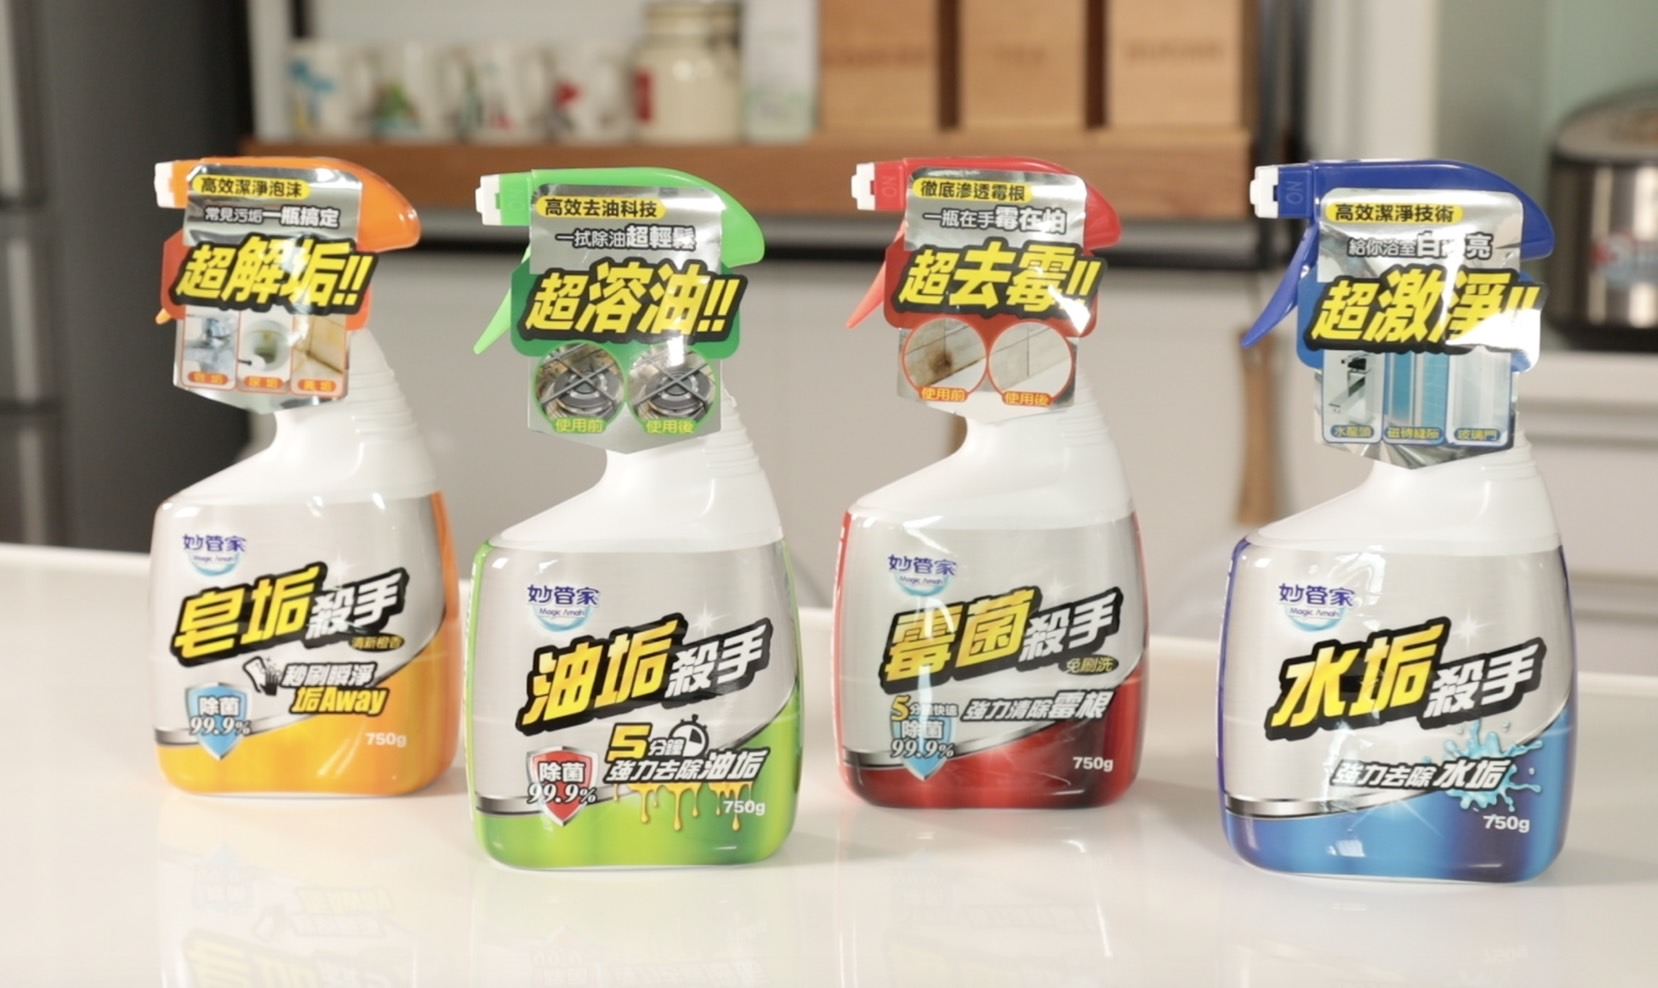cleaner: (1212, 151, 1573, 893), (464, 168, 813, 879), (840, 156, 1159, 829), (131, 156, 462, 797)
